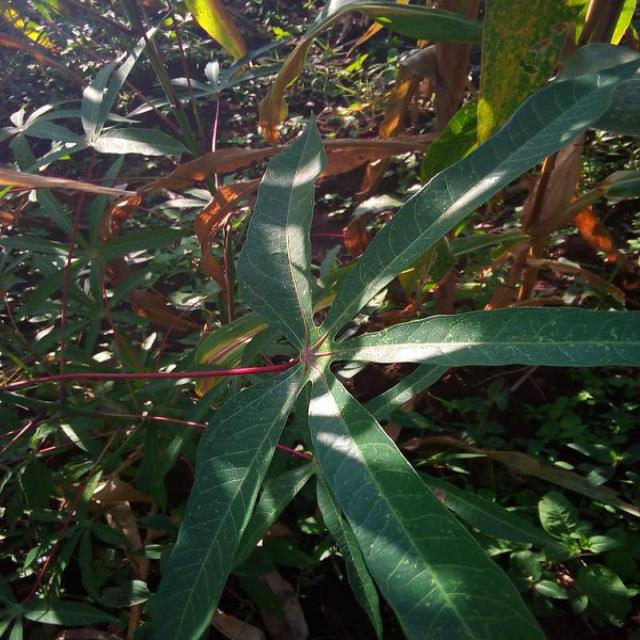cassava leaf: (139, 37, 639, 638), (322, 39, 640, 337), (307, 364, 549, 638), (236, 110, 329, 355)
